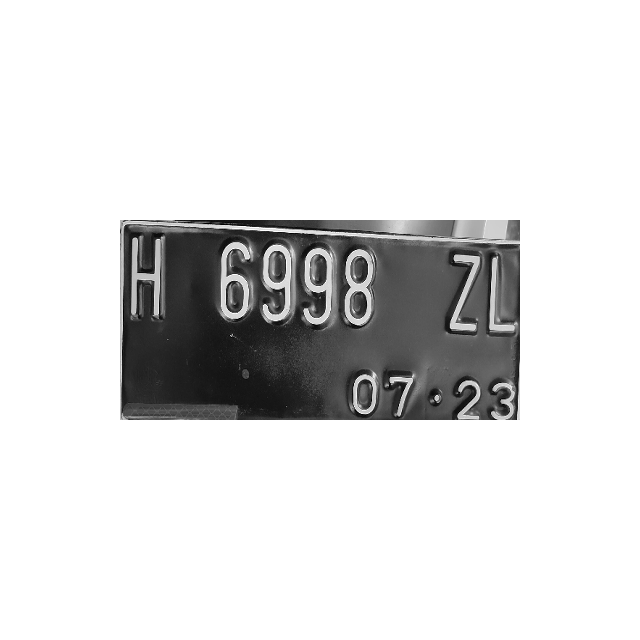contain: (126, 228, 167, 323), (214, 233, 255, 328), (257, 233, 298, 328), (298, 236, 339, 331), (339, 238, 380, 333), (442, 247, 483, 342), (480, 246, 521, 341)
